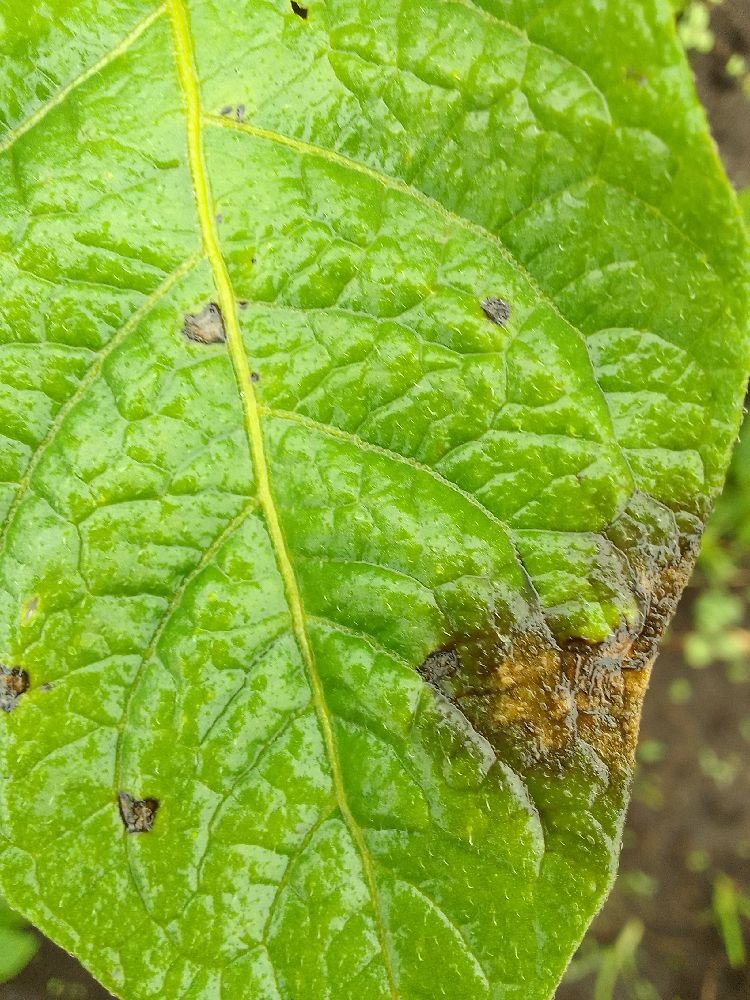late_blight: (406, 487, 749, 999), (665, 0, 750, 210), (0, 905, 132, 1000)
